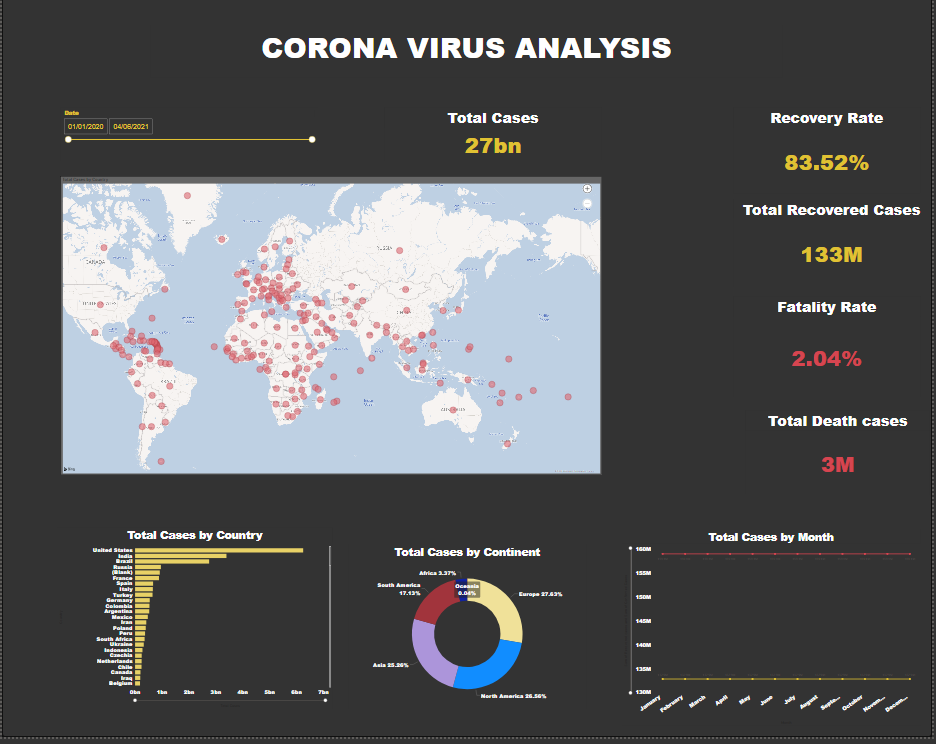

This screenshot's page, from the dashboard's own definition file:
{"tool":"powerbi","page":{"name":"Page 1","canvas":[3500,2800],"ordinal":0},"visuals":[{"type":"textbox","box":[561.4,119.5,2377.1,197.1],"z":0},{"type":"map","fields":{"Category":["covid_data1.Country","covid_data3.Continent"]},"box":[221,686.9,2036.7,1122.9],"z":1000},{"type":"card","title":"Fatality Rate","fields":{"Values":["covid_data1.Fatality Rate"]},"box":[2753.4,1140.8,704.8,376.3],"z":2000},{"type":"card","title":"Recovery Rate","fields":{"Values":["covid_data1.Recovery Rate"]},"box":[2753.4,430,704.8,322.5],"z":3000},{"type":"slicer","fields":{"Values":["covid_data3.Date"]},"box":[221,430,967.6,197.1],"z":4000},{"type":"card","title":"Total Recovered Cases","fields":{"Values":["Sum(covid_data1.Recovered cases)"]},"box":[2753.4,770.5,740.6,328.5],"z":5000},{"type":"card","title":"Total Death cases","fields":{"Values":["Sum(covid_data1.Number of Deaths)"]},"box":[2801.2,1564.8,692.8,316.6],"z":6000},{"type":"donutChart","fields":{"Series":["covid_data3.Continent"],"Y":["Sum(covid_data3.Total Cases)"]},"box":[1302,2072.5,895.9,621.2],"z":7000},{"type":"lineChart","title":"Total Cases by Month","fields":{"Category":["covid_data3.Date.Variation.Date Hierarchy.Month"],"Y":["Sum(covid_data1.Recovered cases)","Sum(covid_data1.Confirmed Cases)"]},"box":[2335.3,2012.8,1122.9,740.6],"z":7001},{"type":"barChart","fields":{"Category":["covid_data1.Country"],"Y":["Sum(covid_data3.Total Cases)"]},"box":[208.5,2011.3,1036.6,681.7],"z":7002},{"type":"card","title":"Total Cases","fields":{"Values":["Sum(covid_data3.Total Cases)"]},"box":[1439.4,430,818.3,197.1],"z":7003}]}

Visuals, with their boxes in screenshot pixels (x1, y1, x2, y2), scaled from the page's 3500x2800 canvas onto the 936x744 screenshot:
textbox: 150 32 786 84
map - covid_data1.Country x covid_data3.Continent: 59 183 604 481
"Fatality Rate" card: 736 303 925 403
"Recovery Rate" card: 736 114 925 200
slicer - covid_data3.Date: 59 114 318 167
"Total Recovered Cases" card: 736 205 934 292
"Total Death cases" card: 749 416 934 500
donutChart - covid_data3.Continent x Sum(covid_data3.Total Cases): 348 551 588 716
"Total Cases by Month" lineChart: 625 535 925 732
barChart - covid_data1.Country x Sum(covid_data3.Total Cases): 56 534 333 716
"Total Cases" card: 385 114 604 167
